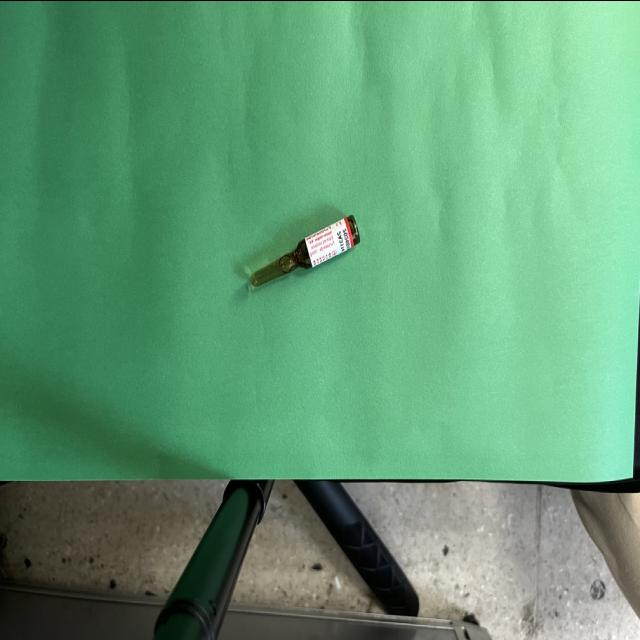Ampoules: (250, 215, 360, 287)
